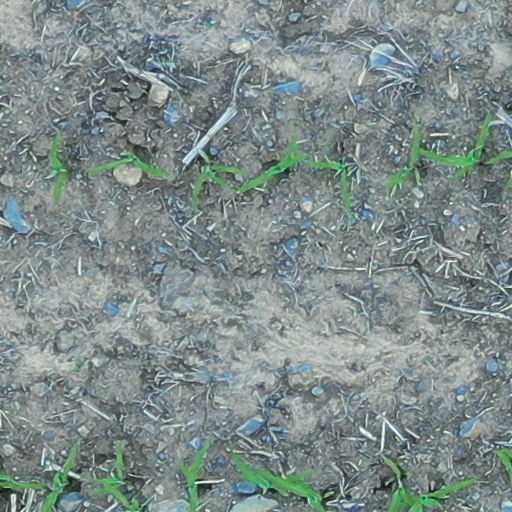planta: (414, 115, 493, 177), (238, 142, 309, 192), (231, 453, 312, 491), (388, 122, 423, 189), (306, 160, 352, 210), (194, 164, 240, 206), (89, 445, 125, 494), (90, 154, 168, 176), (50, 134, 68, 201)
